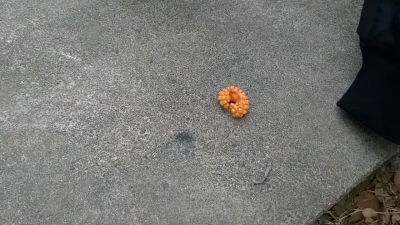eggs: (217, 85, 250, 119)
